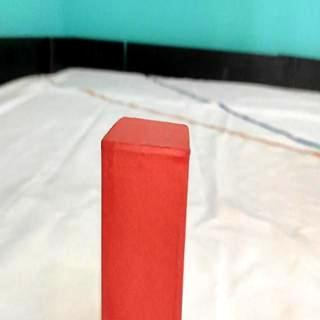redbox: (99, 115, 191, 320)
